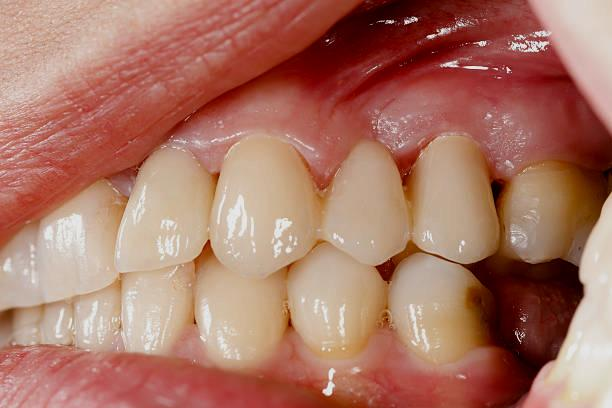Caries: (446, 283, 524, 358)
